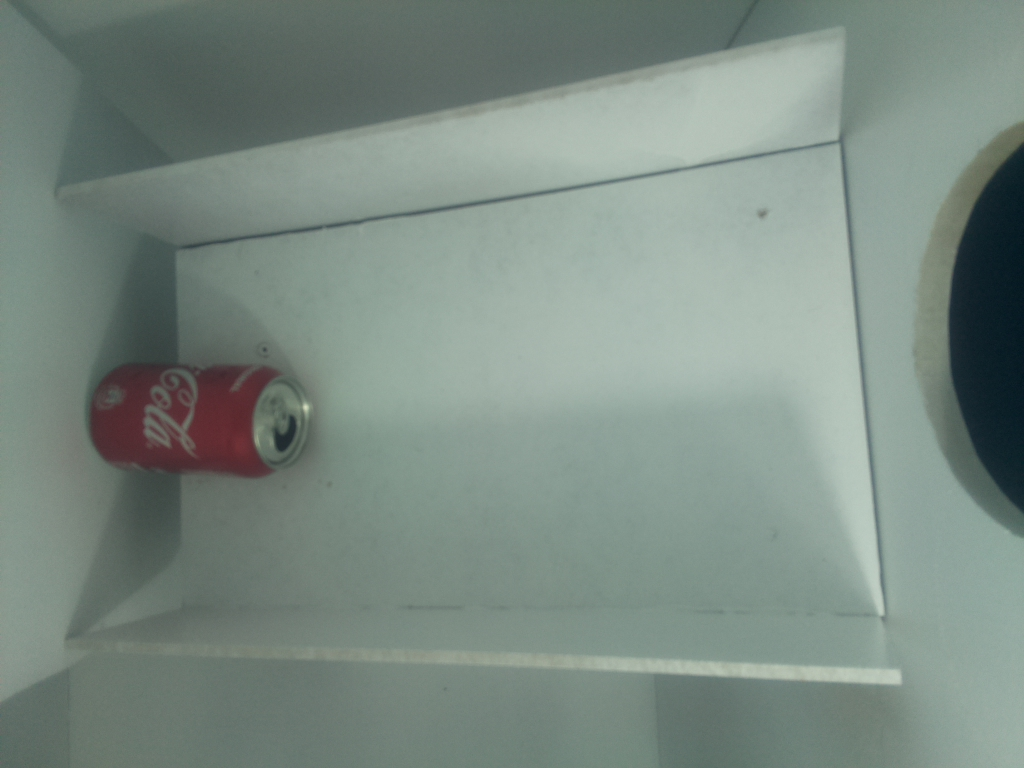kaleng: (88, 362, 317, 474)
